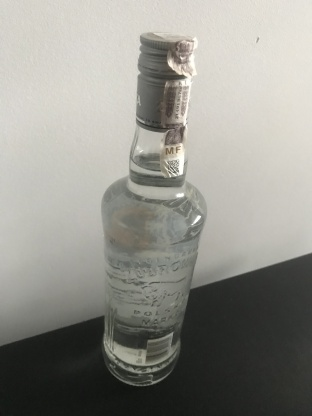nakretka: (134, 28, 199, 133)
